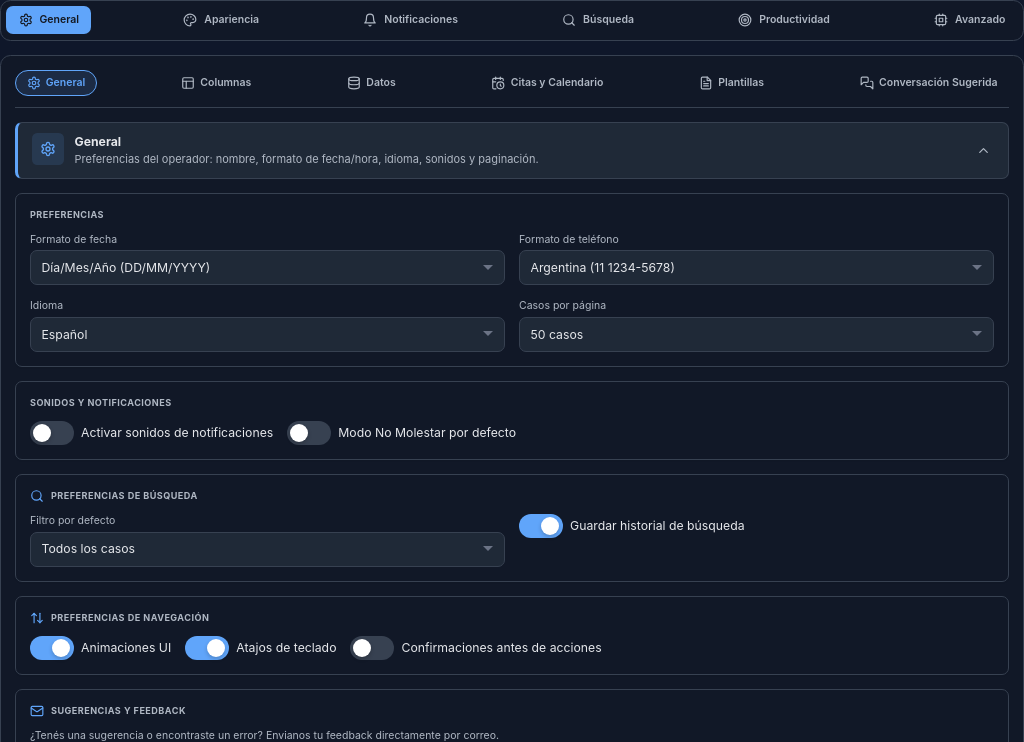
it: ConfiguracionView › Liquidaciones queda en el grupo Productividad y no en General
Expected: the text "Liquidaciones" is not shown
Click the button "Productividad". click: click(784, 20)
box: [726,6,842,34]
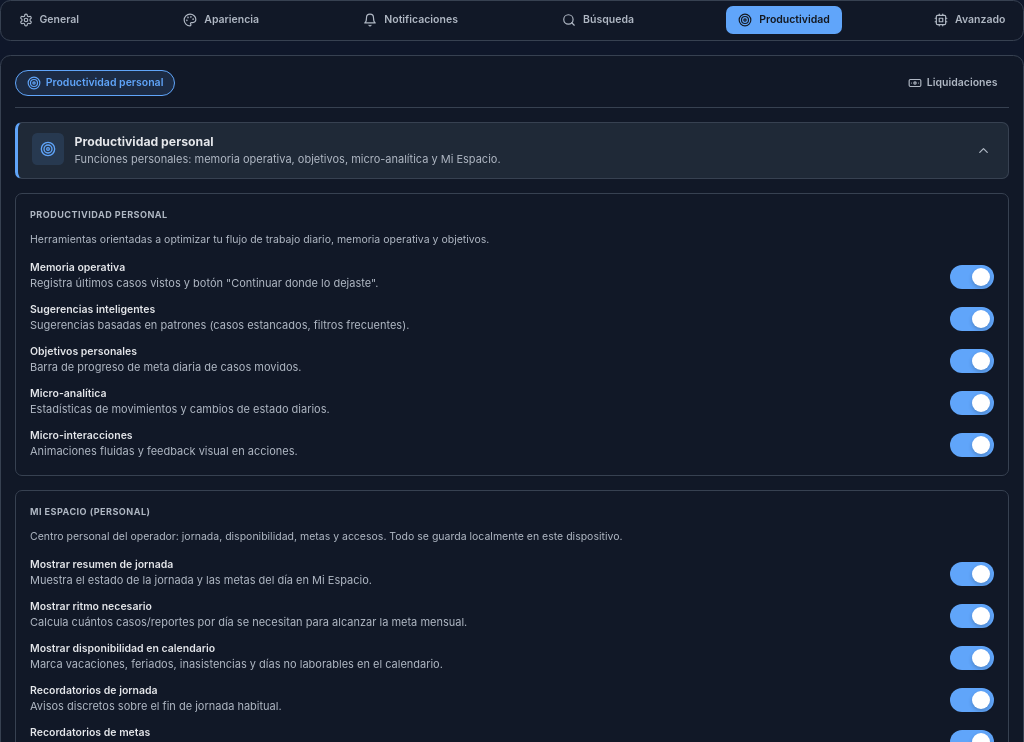
Now the button "Productividad personal" is shown, box [15,70,175,96]
Click the button "Liquidaciones". click: click(953, 83)
box: [896,70,1009,96]
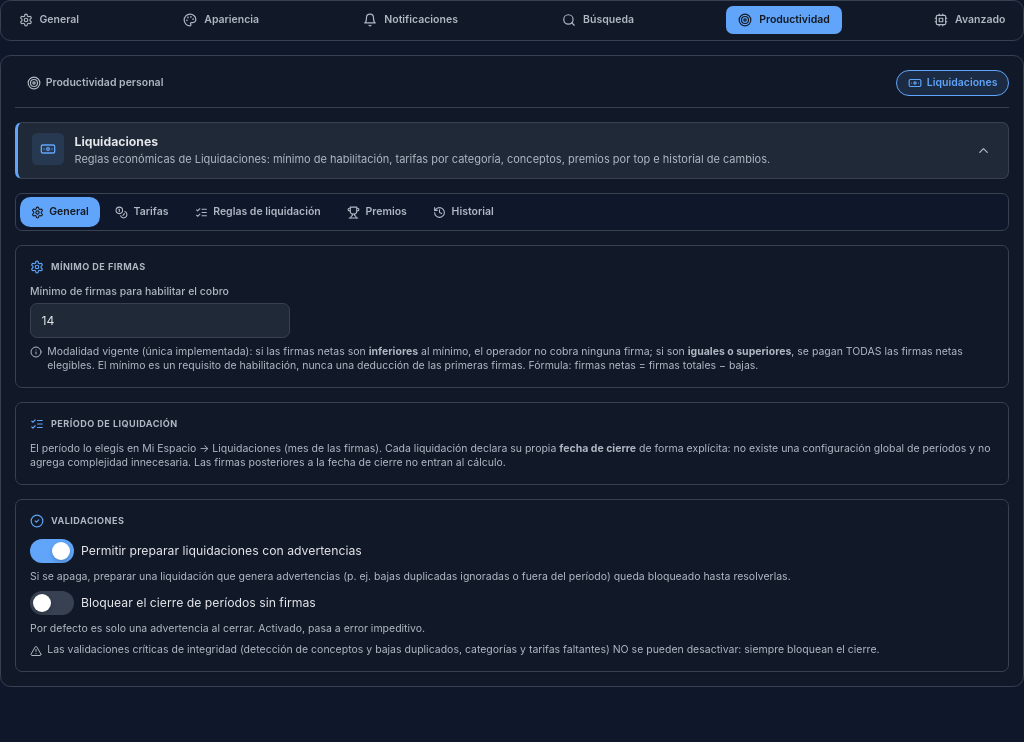
Now the tab "Tarifas" is shown, box [104,197,180,227]
Y ya no vive en General.
Click the button "General". click: click(49, 20)
box: [6,6,91,34]
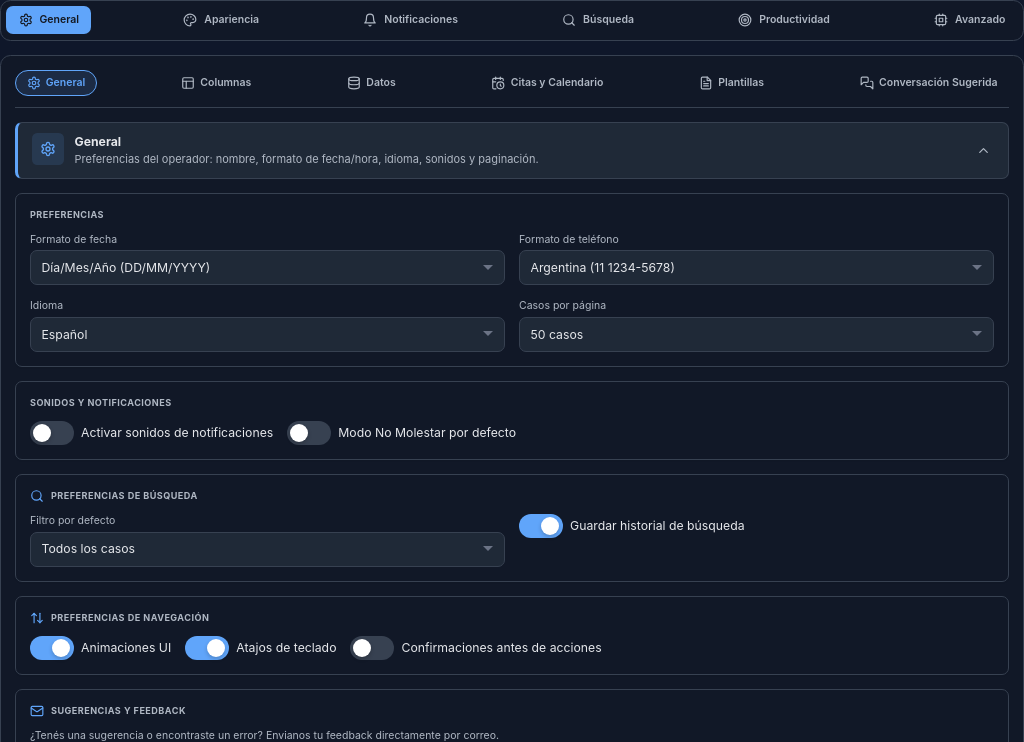
Now the button "Liquidaciones" is gone
